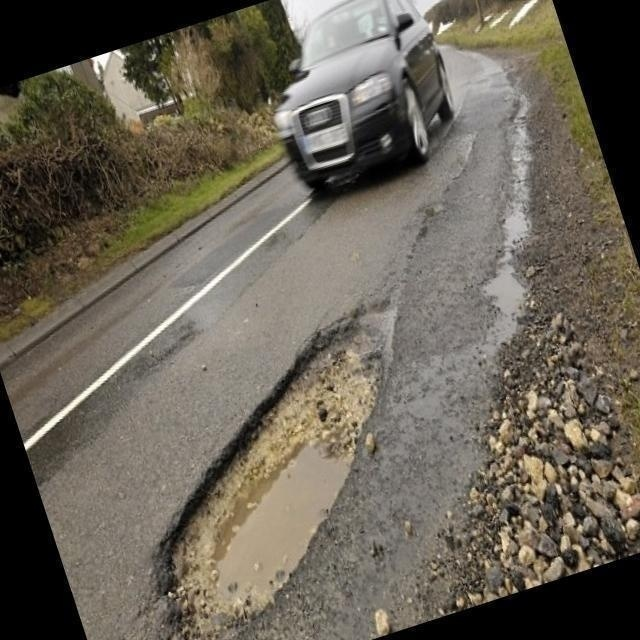pothole: (170, 312, 384, 622)
